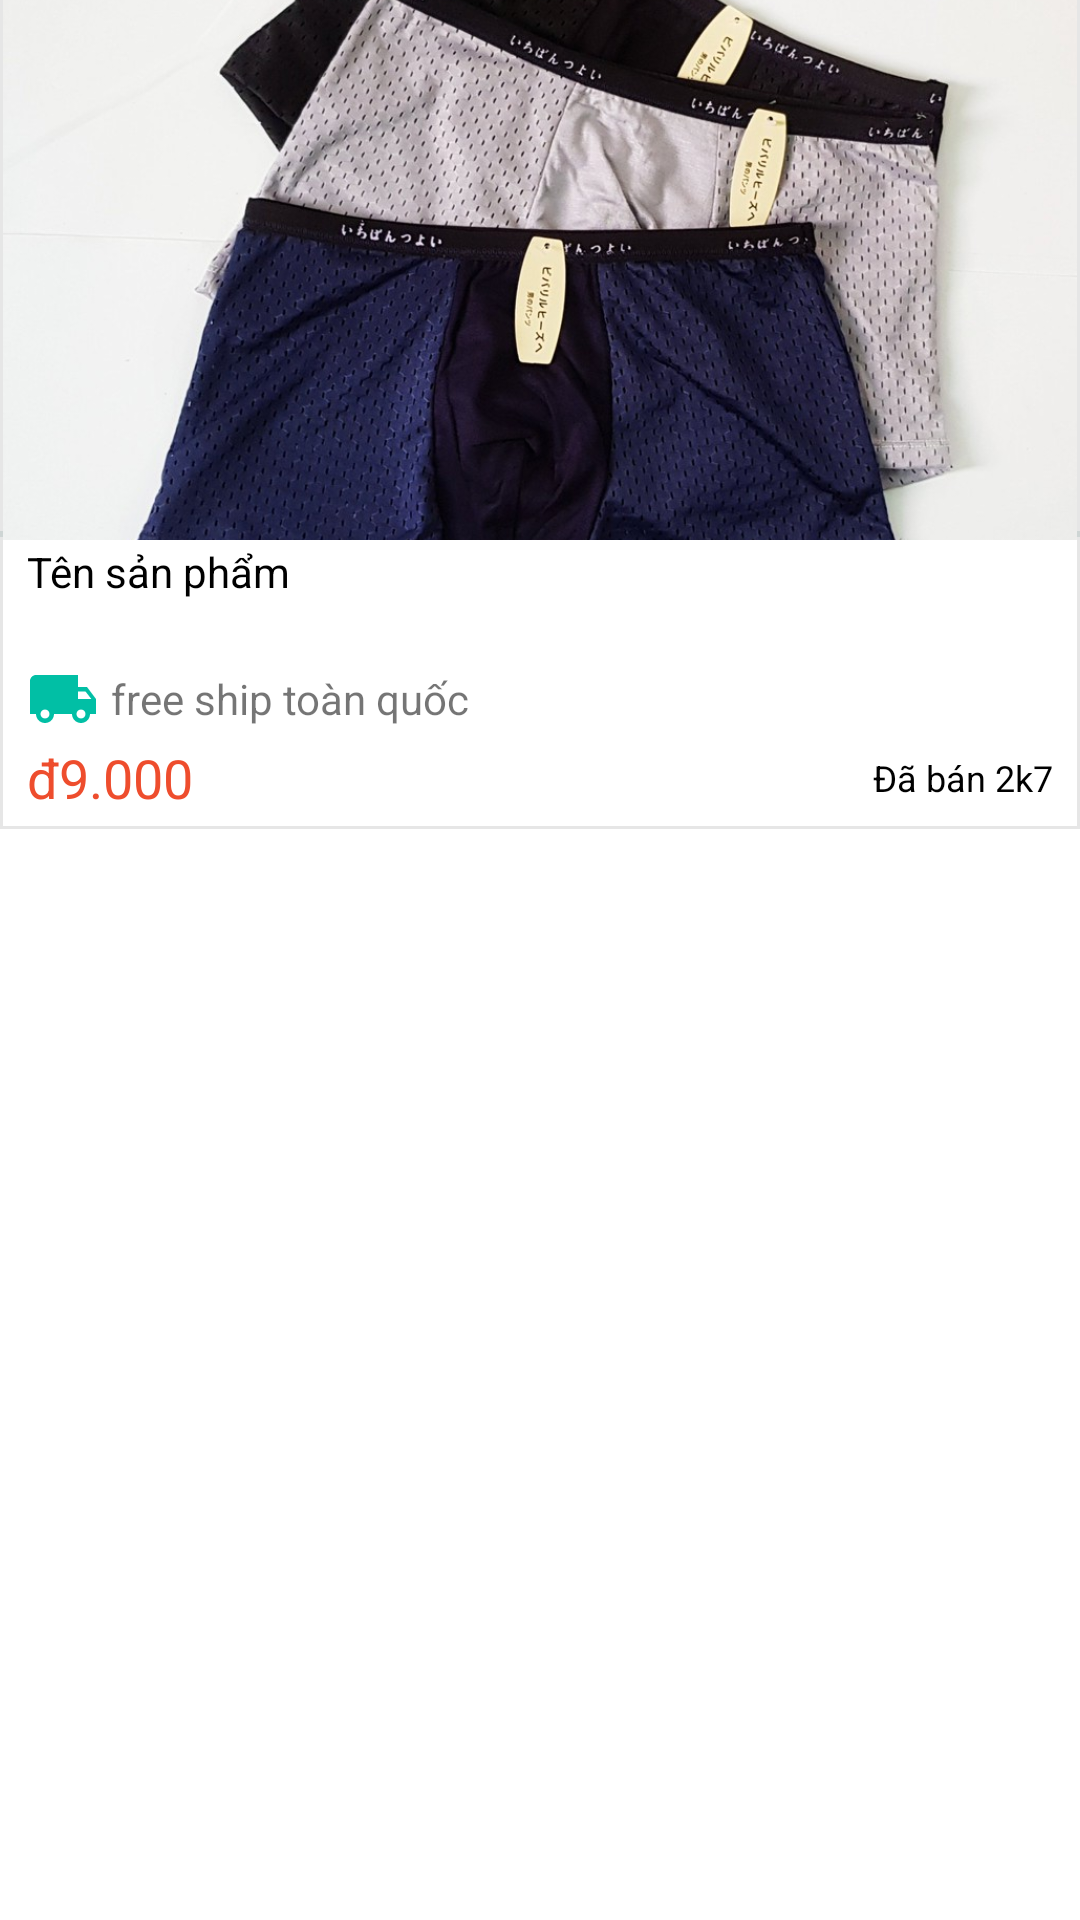

Locate icon controls on the screen. Image size 1080w x 1920h, boxes as (x1, y1, x2, y2).
local shipping: (30, 675, 96, 723)
